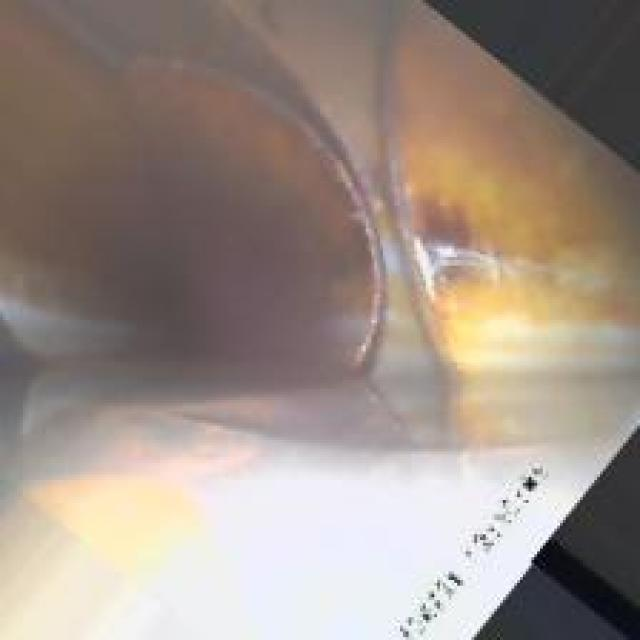joint: (103, 17, 611, 486)
